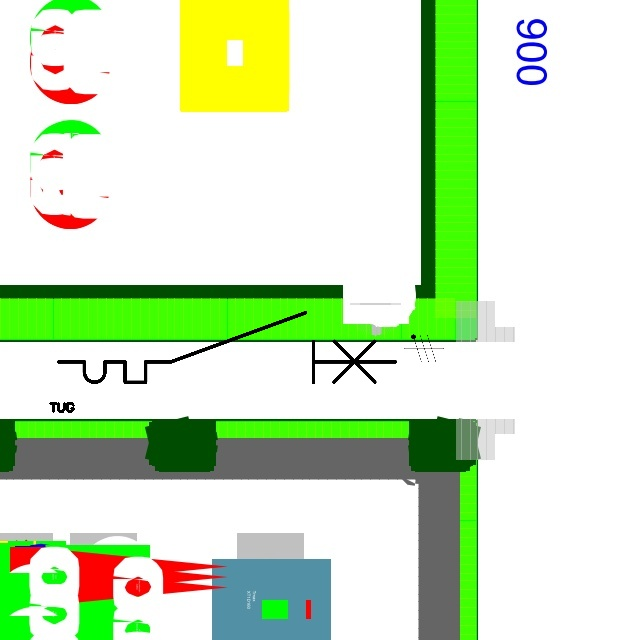interruptor_termomagnetico: (50, 304, 404, 391)
